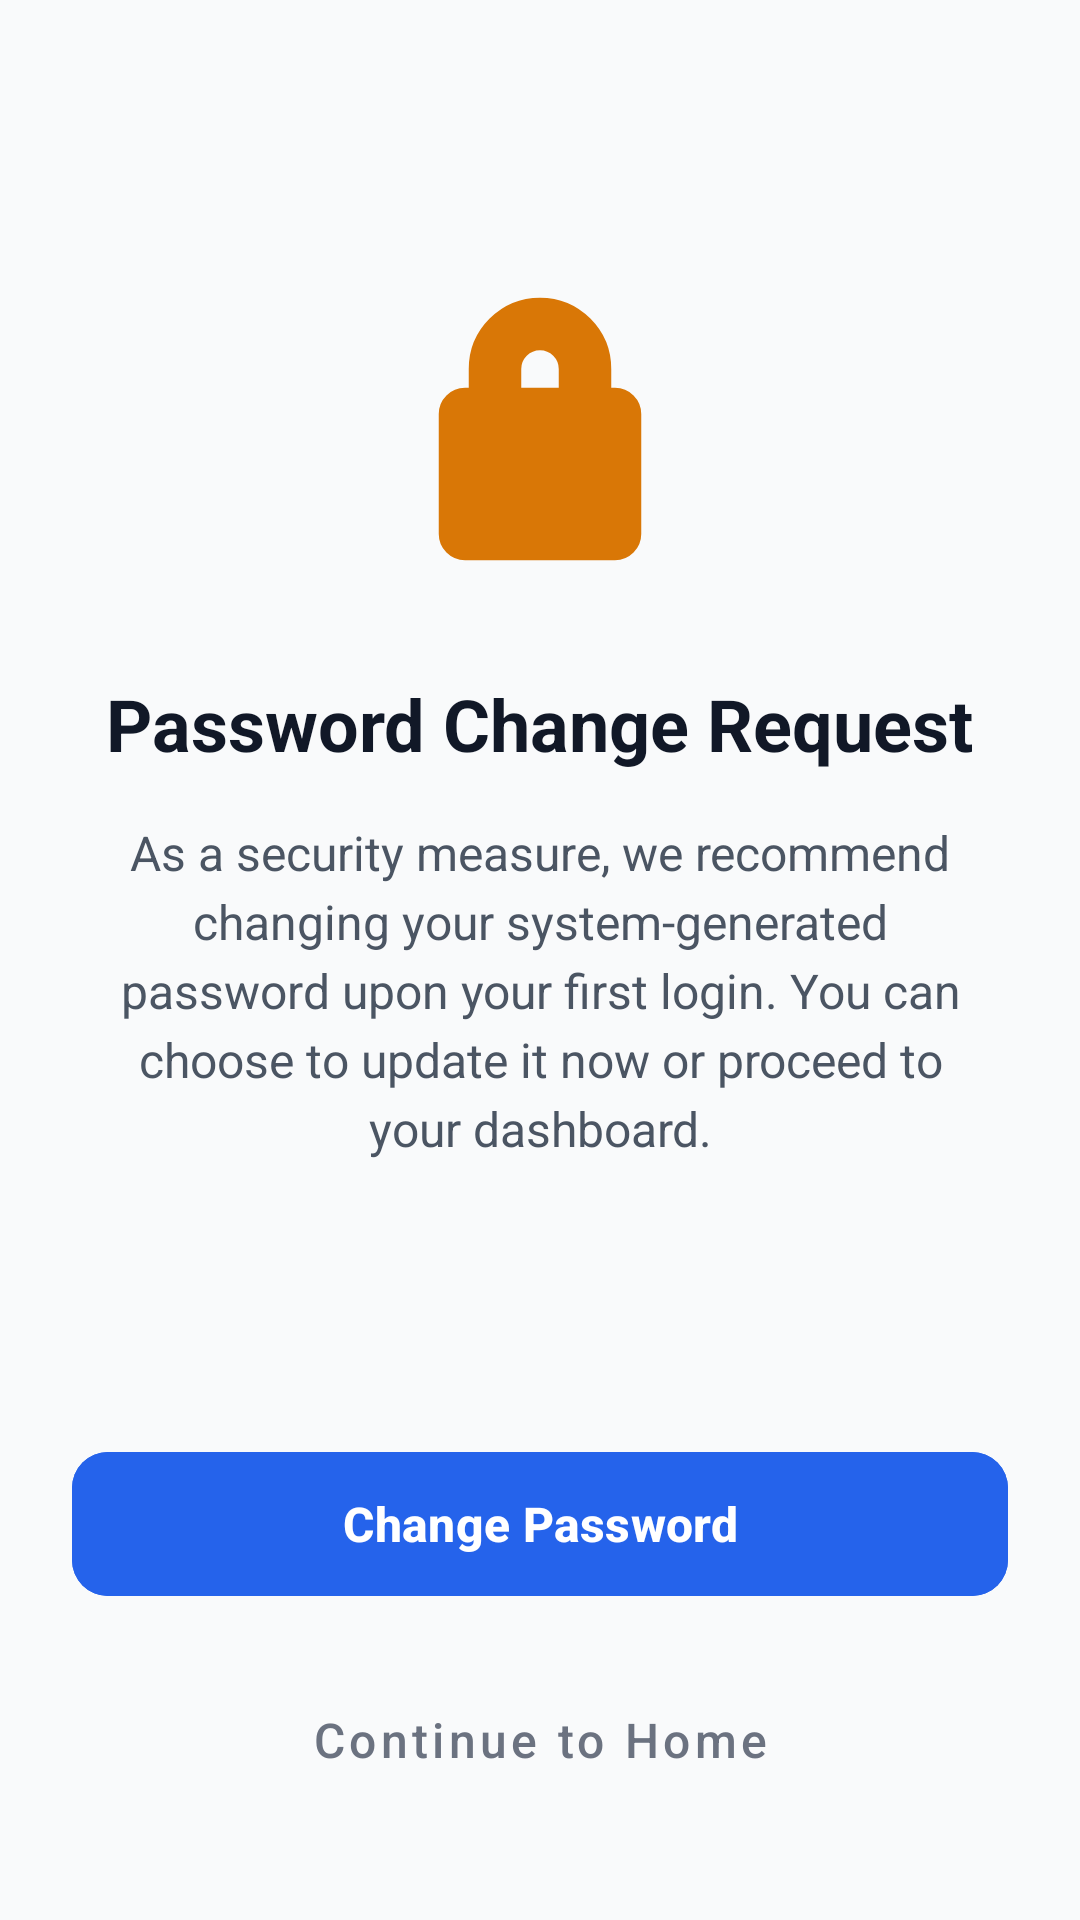

Point at icon controls on the screen. Image size 1080*1920, points as [x,y].
lock: [540,429]
